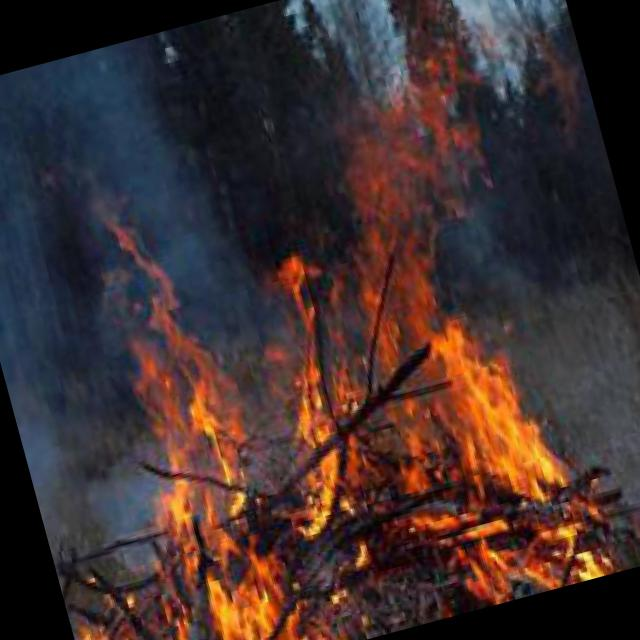fire: (0, 8, 638, 640)
